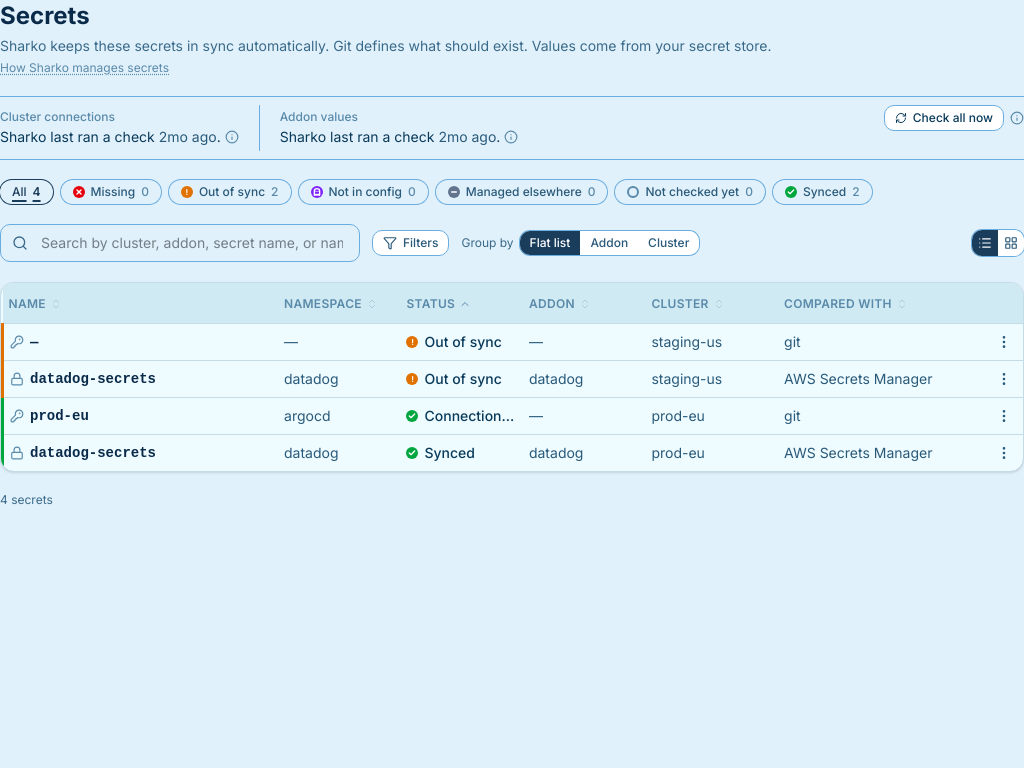
Test: ManagedSecrets › shows an active-filter count on the Filters button and clears both filters at once
Expected: the button with test id "secret-row-connection-prod-eu" is shown, [2, 397, 1023, 434]
Click the button with test id "filters-button": (411,243) [372, 230, 449, 256]
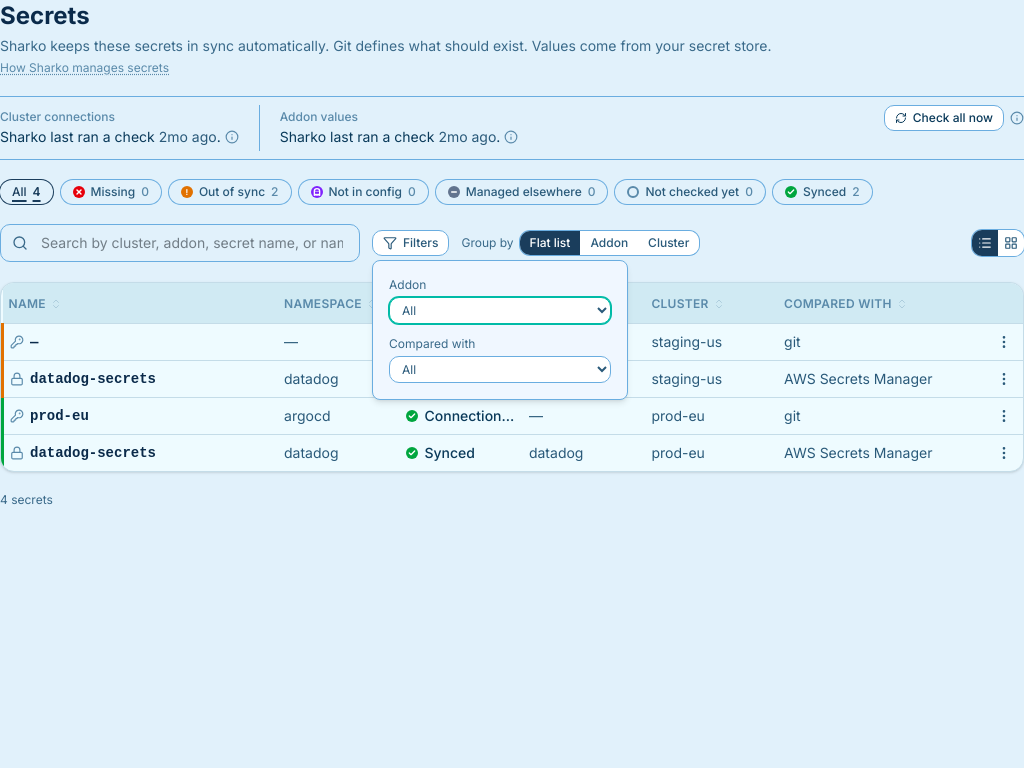
Select "datadog" in the dropdown with test id "addon-filter-select": (500,310) [389, 297, 611, 324]
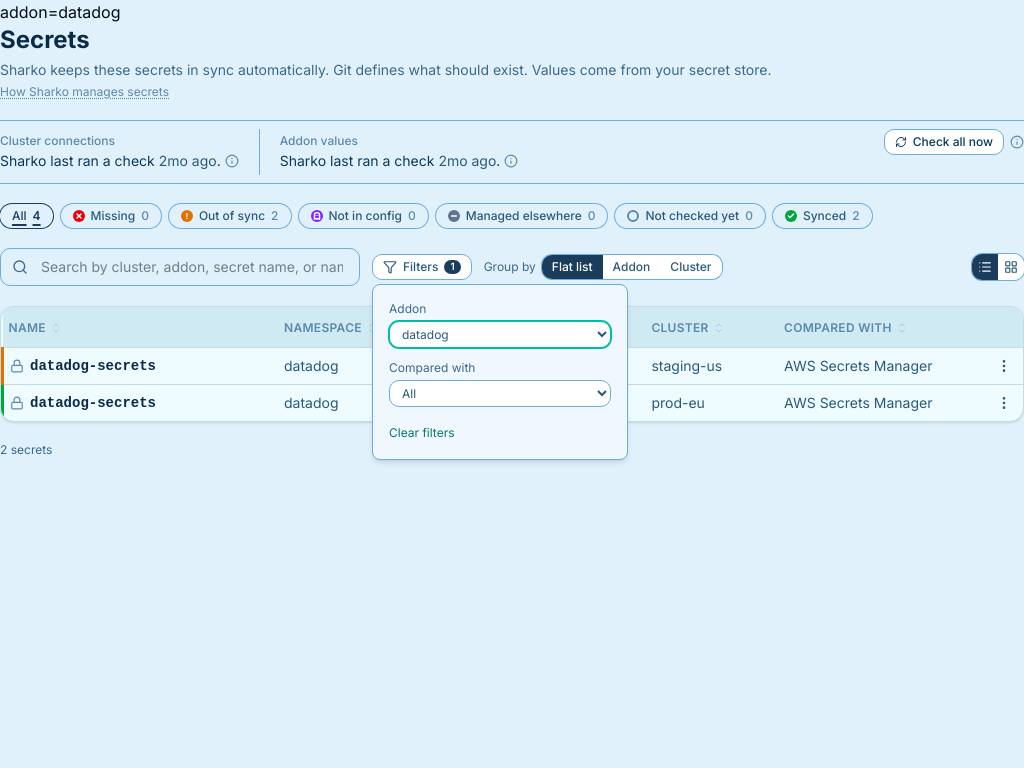
Select "AWS Secrets Manager" in the dropdown with test id "source-filter-select": (500,394) [389, 380, 611, 407]
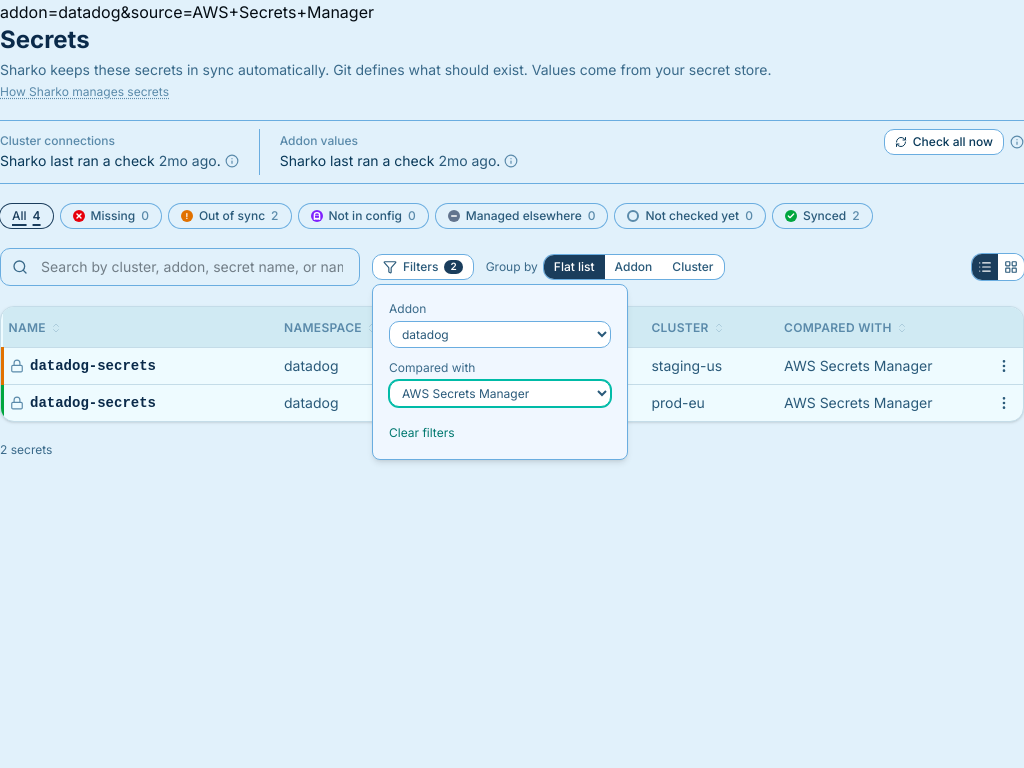
Expected: the text with test id "filters-active-count" reads "2", [450, 260, 457, 272]
Click the button with test id "filters-clear": (422,433) [389, 425, 454, 441]
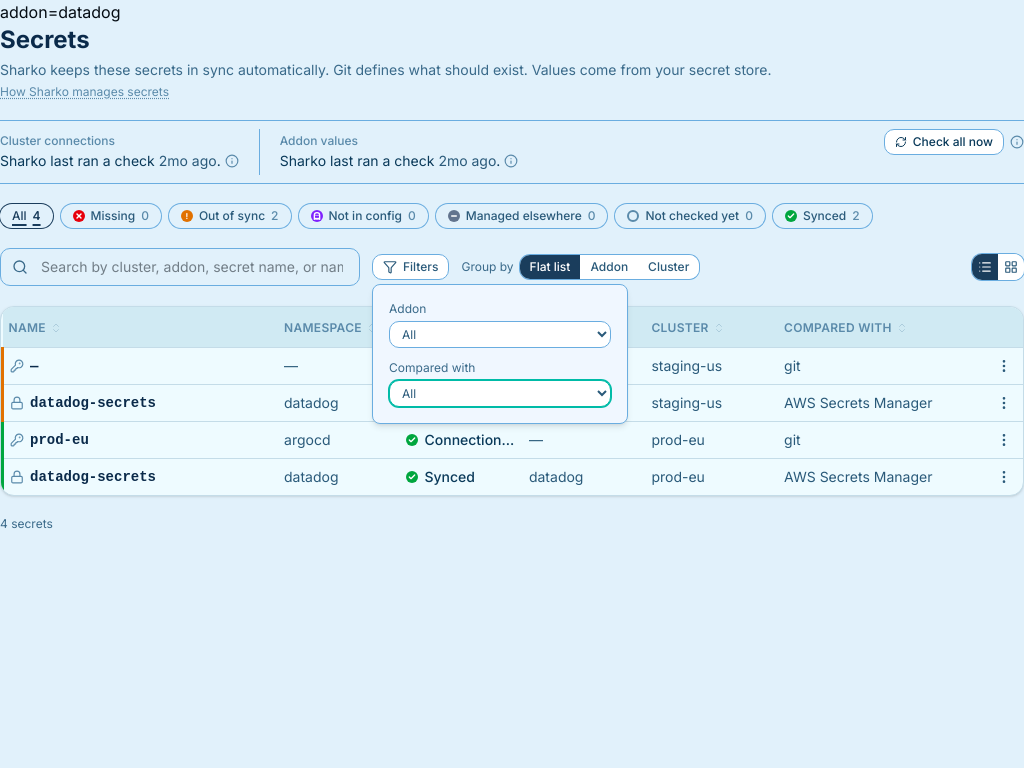
Expected: the text with test id "filters-active-count" is gone
